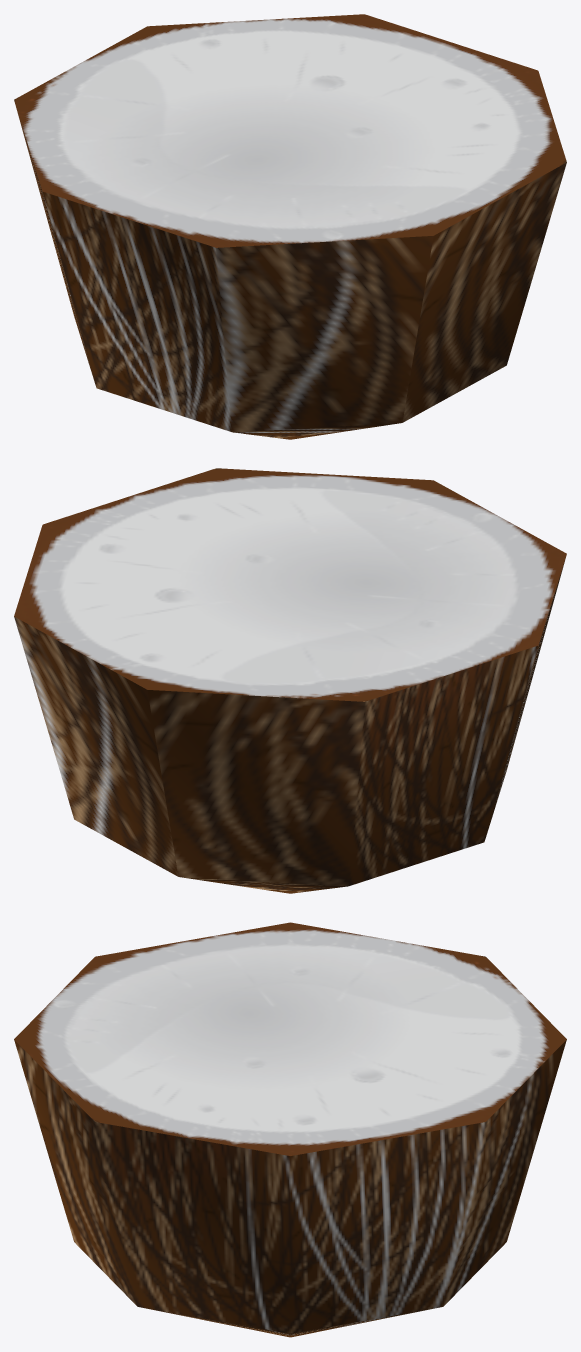
File: CocunetS.FBX
3 views of the same model, one above another, from view 1: azimuth 30°, elevation 25°; view 2: azimuth 150°, elevation 25°; view 3: azimuth 270°, elevation 25° (orthographic). The views are drawn at different scales.
Parts seen in each view (by area): view 1: Cocune Slice; view 2: Cocune Slice; view 3: Cocune Slice.
Part boxes in pixels (<box>): Cocune Slice: <box>14,14,566,439</box>; Cocune Slice: <box>14,468,566,893</box>; Cocune Slice: <box>14,922,566,1337</box>.
Bounding box in the file's own units: 11.36 × 6.76 × 11.36.
